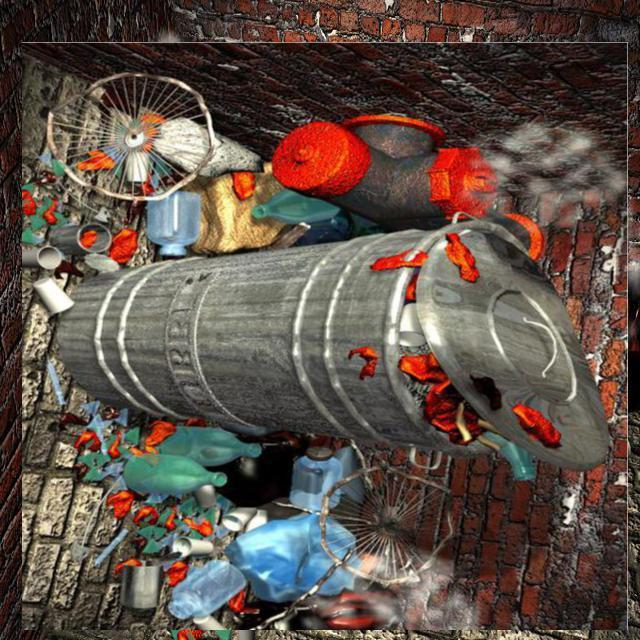Anorganik: (26, 38, 624, 636)
